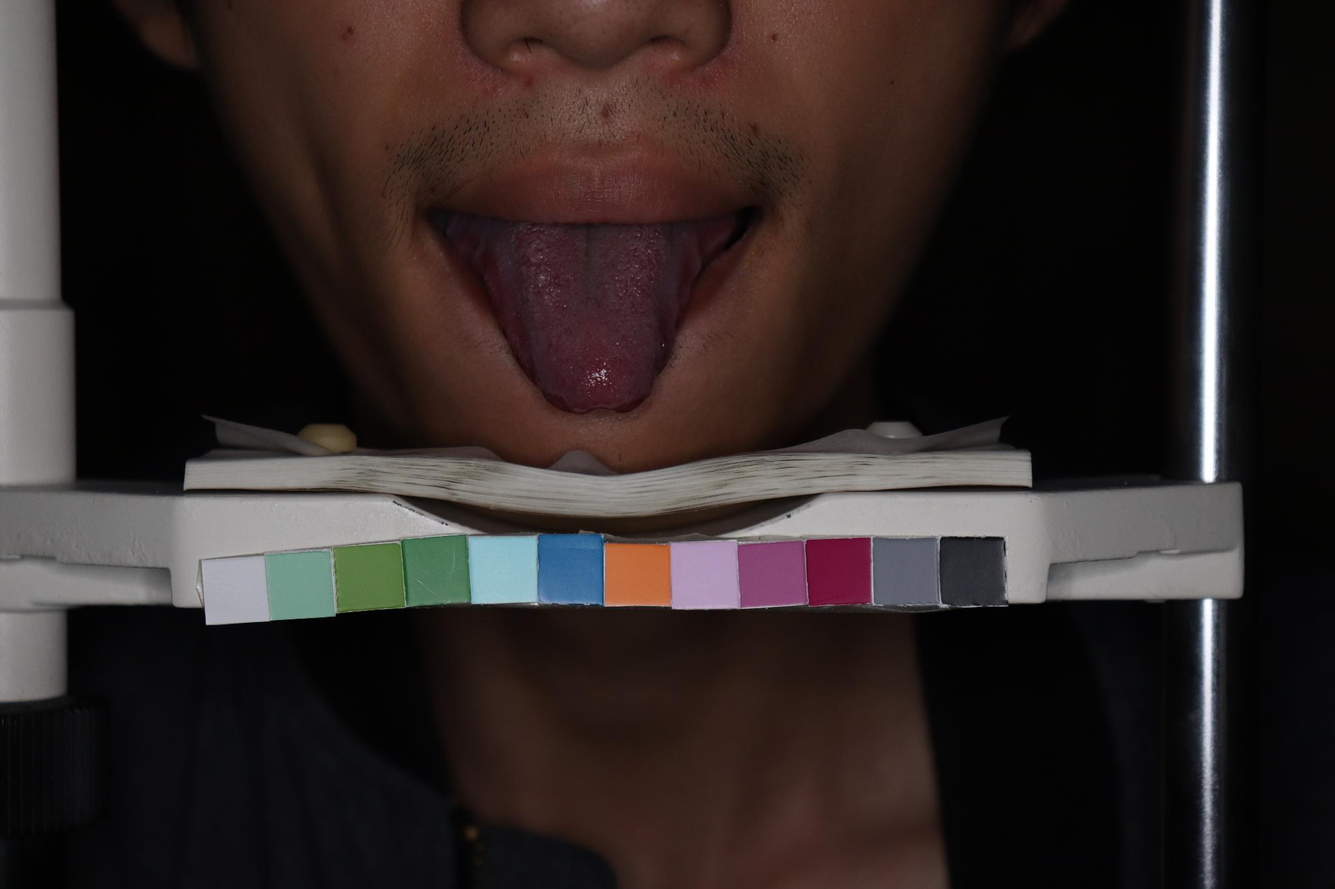zishe: (476, 225, 703, 414)
